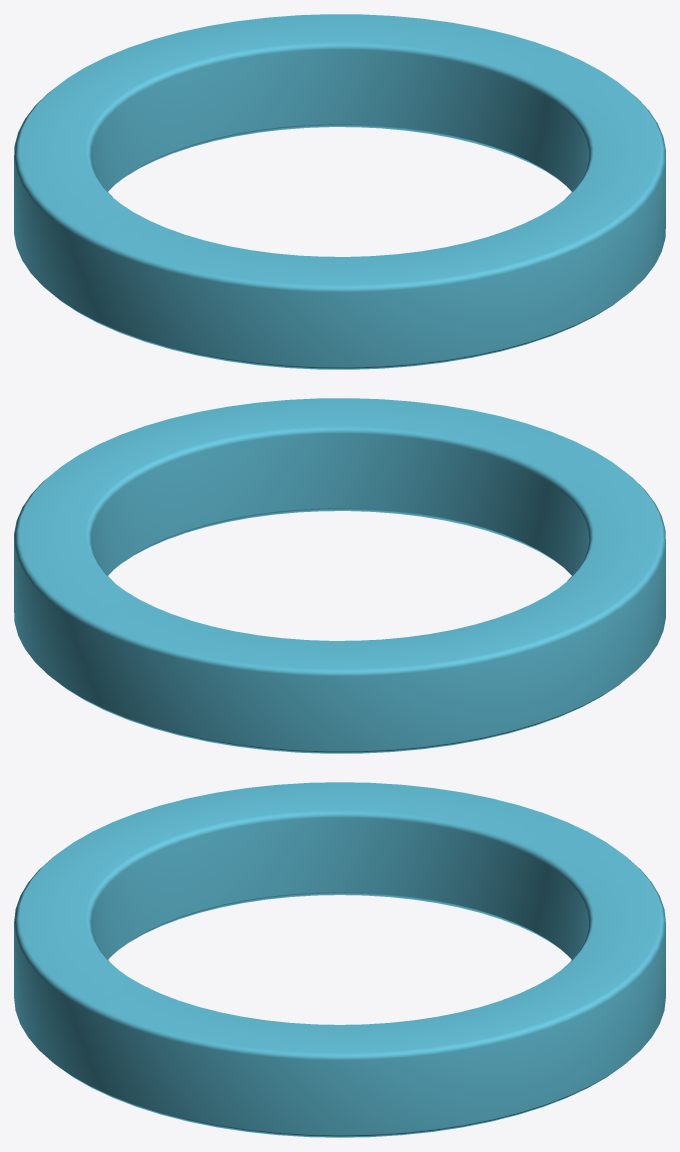
3 renders of one model, top to bottom at view 1: azimuth 30°, elevation 25°; view 2: azimuth 150°, elevation 25°; view 3: azimuth 270°, elevation 25°, orthographic.
Visible parts, largest first — view 1: seal_body; view 2: seal_body; view 3: seal_body.
Boxes of the visible parts, x1,y1,x2,y2 form: seal_body: (14, 14, 665, 369); seal_body: (14, 398, 665, 753); seal_body: (14, 782, 665, 1137).
Bounding box in the file's own units: 0.063 × 0.00904 × 0.063.
